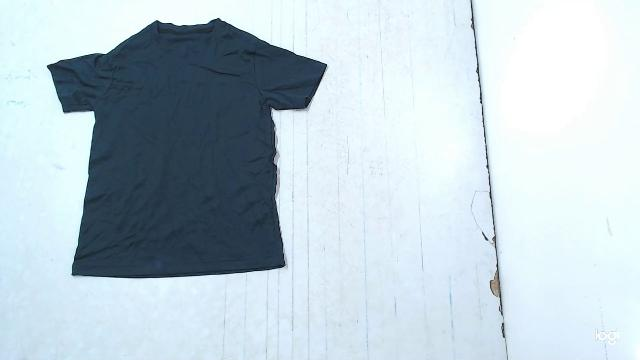new-garment: (48, 19, 326, 277)
